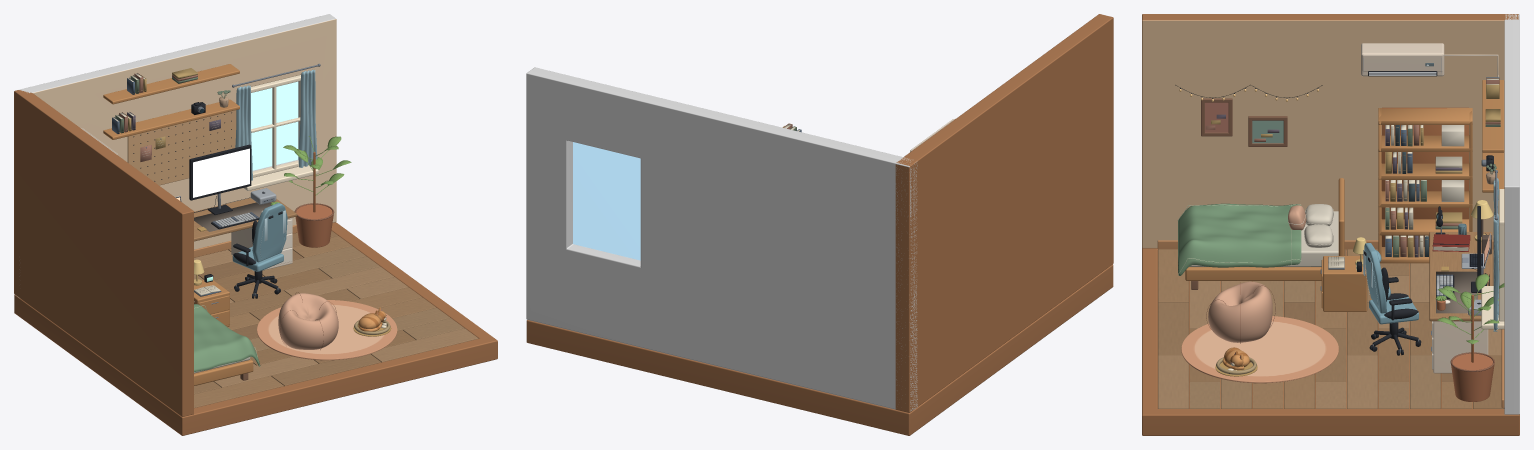
Rendered from room-day-warm.glb.
3 renders of one model, left to right at view 1: azimuth 30°, elevation 25°; view 2: azimuth 150°, elevation 25°; view 3: azimuth 270°, elevation 25°, orthographic. The views are drawn at different scales.
Visible parts, largest first — view 1: V2_Room_LeftWall, V2_Room_RearWall, V2_Room_Plinth, V2_Block_Pegboard, V2_Block_Rug, V2_Room_Glass | Day, V2_Soft_Beanbag, V2_Detail_GamingChair, V2_Soft_DrapedQuilt, Computer_Screen, V2_Soft_PleatedCurtain1, V2_Room_Board_00_02 (+28 smaller); view 2: V2_Room_RearWall, V2_Room_LeftWall, V2_Room_Plinth, V2_Room_Glass | Day; view 3: V2_Room_LeftWall, V2_Room_Plinth, Bookshelf, V2_Soft_DrapedQuilt, V2_Block_Rug, V2_Room_RearWall, V2_Soft_Beanbag, V2_Detail_GamingChair, AirConditioner, V2_Block_Nightstand, V2_Block_DeskCabinet, V2_Block_DeskTop (+45 smaller).
Boxes of the visible parts, x1,y1,x2,y2 form: V2_Room_LeftWall: (14,90,193,416); V2_Room_RearWall: (16,14,336,297); V2_Room_Plinth: (14,222,497,435); V2_Block_Pegboard: (127,110,236,185); V2_Block_Rug: (257,300,397,360); V2_Room_Glass | Day: (251,81,298,170); V2_Soft_Beanbag: (278,293,338,349); V2_Detail_GamingChair: (232,203,287,298); V2_Soft_DrapedQuilt: (194,304,260,371); Computer_Screen: (193,148,249,197); V2_Soft_PleatedCurtain1: (298,69,317,167); V2_Room_Board_00_02: (371,328,478,362); V2_Room_RearWall: (526,67,917,411); V2_Room_LeftWall: (895,14,1113,412); V2_Room_Plinth: (526,264,1113,435); V2_Room_Glass | Day: (573,142,640,260); V2_Room_LeftWall: (1142,14,1518,248); V2_Room_Plinth: (1142,248,1519,435); Bookshelf: (1378,107,1472,263); V2_Soft_DrapedQuilt: (1178,203,1301,275); V2_Block_Rug: (1181,316,1338,383); V2_Room_RearWall: (1504,14,1519,414); V2_Soft_Beanbag: (1208,281,1272,342); V2_Detail_GamingChair: (1363,243,1421,355); AirConditioner: (1361,43,1444,76); V2_Block_Nightstand: (1323,256,1367,311); V2_Block_DeskCabinet: (1433,321,1488,373); V2_Block_DeskTop: (1429,232,1492,321).
Bounding box in the file's own units: 5.2 × 3.5 × 4.8.
80 materials, 9 textured.
